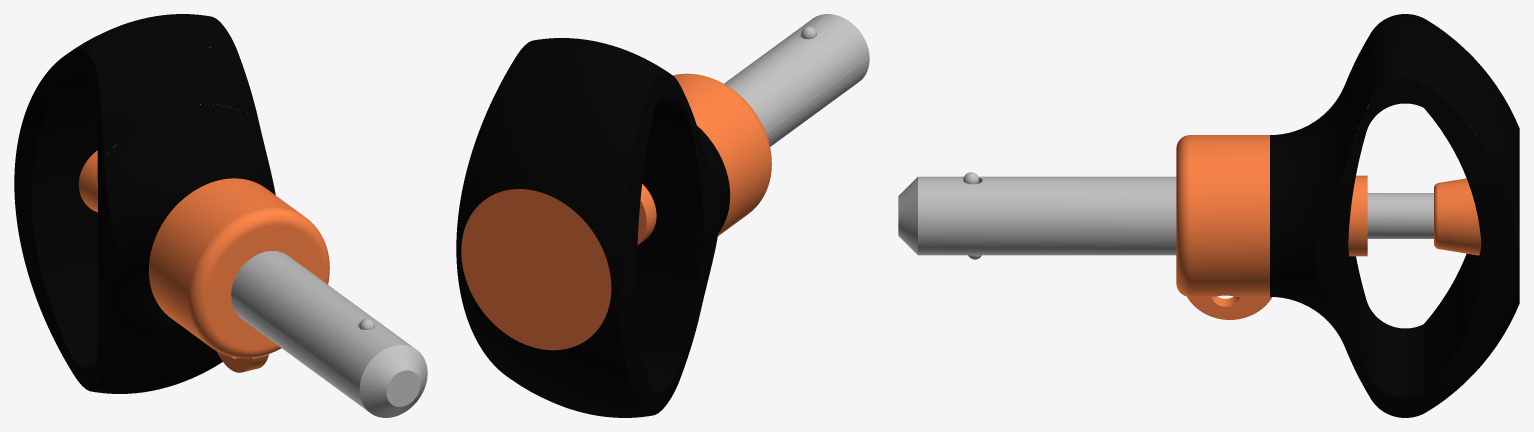
The model's file is IPTH8-20.glb.
3 renders of one model, left to right at view 1: azimuth 30°, elevation 25°; view 2: azimuth 150°, elevation 25°; view 3: azimuth 270°, elevation 25°, orthographic.
Visible parts, largest first — view 1: _IPTH8-20_14, _IPTH8-20_25, _IPTH8-20_2, _IPTH8-20_27, _IPTH8-20_32, _IPTH8-20_33, _IPTH8-20_30, _IPTH8-20_4, _IPTH8-20_19, _IPTH8-20_31, _IPTH8-20_3, _IPTH8-20_5 (+3 smaller); view 2: _IPTH8-20_29, _IPTH8-20_28, _IPTH8-20_13, _IPTH8-20_2, _IPTH8-20_27, _IPTH8-20_33, _IPTH8-20_30, _IPTH8-20_12, _IPTH8-20_14, _IPTH8-20_11, _IPTH8-20_19; view 3: _IPTH8-20_2, _IPTH8-20_17, _IPTH8-20_33, _IPTH8-20_14, _IPTH8-20_29, _IPTH8-20_12, _IPTH8-20_25, _IPTH8-20_30, _IPTH8-20_9, _IPTH8-20_6, _IPTH8-20_19, _IPTH8-20_32 (+4 smaller).
Part boxes in pixels (x1,y1,x2,y2): _IPTH8-20_14: (104, 104, 275, 347); _IPTH8-20_25: (31, 72, 162, 355); _IPTH8-20_2: (231, 251, 413, 410); _IPTH8-20_27: (14, 48, 114, 391); _IPTH8-20_32: (99, 47, 258, 157); _IPTH8-20_33: (149, 178, 301, 344); _IPTH8-20_30: (75, 14, 237, 85); _IPTH8-20_4: (207, 225, 322, 349); _IPTH8-20_19: (188, 207, 329, 358); _IPTH8-20_31: (99, 331, 220, 385); _IPTH8-20_3: (359, 345, 427, 417); _IPTH8-20_5: (386, 370, 420, 406); _IPTH8-20_29: (456, 53, 649, 417); _IPTH8-20_28: (461, 189, 611, 350); _IPTH8-20_13: (619, 105, 703, 350); _IPTH8-20_2: (698, 14, 869, 146); _IPTH8-20_27: (619, 72, 719, 415); _IPTH8-20_33: (673, 74, 769, 236); _IPTH8-20_30: (516, 38, 669, 88); _IPTH8-20_12: (640, 340, 685, 393); _IPTH8-20_14: (697, 126, 730, 232); _IPTH8-20_11: (638, 184, 656, 244); _IPTH8-20_19: (673, 73, 771, 206); _IPTH8-20_2: (918, 176, 1176, 255); _IPTH8-20_17: (1315, 78, 1516, 417); _IPTH8-20_33: (1190, 135, 1269, 296); _IPTH8-20_14: (1270, 85, 1344, 346); _IPTH8-20_29: (1426, 20, 1519, 393); _IPTH8-20_12: (1366, 300, 1423, 396); _IPTH8-20_25: (1424, 246, 1481, 392); _IPTH8-20_30: (1370, 14, 1426, 100); _IPTH8-20_9: (1367, 193, 1433, 238); _IPTH8-20_6: (1438, 178, 1481, 255); _IPTH8-20_19: (1176, 135, 1189, 296); _IPTH8-20_32: (1345, 34, 1370, 166).
Bounding box in the file's own units: 19.2 × 41 × 63.
